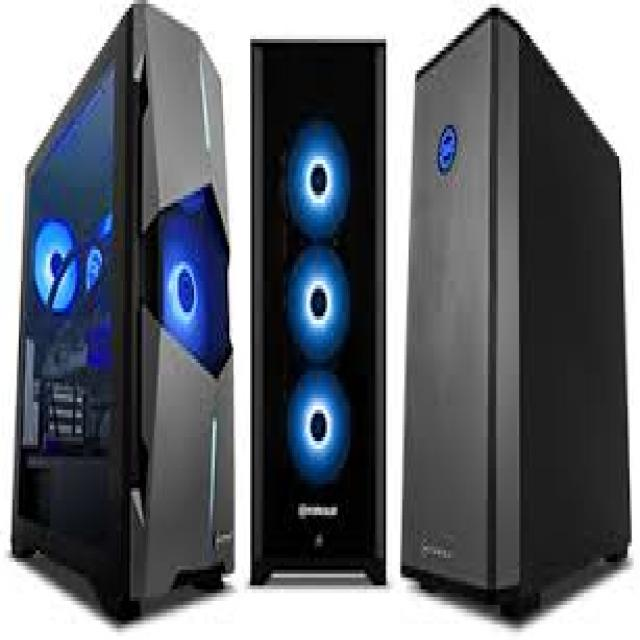Computer: (405, 5, 635, 628), (7, 0, 229, 624), (248, 0, 397, 589)
